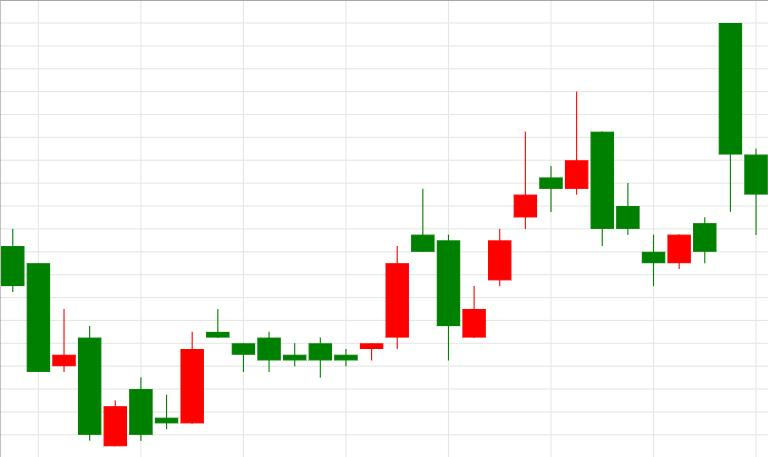shooting_star_fall: (462, 91, 588, 340)
